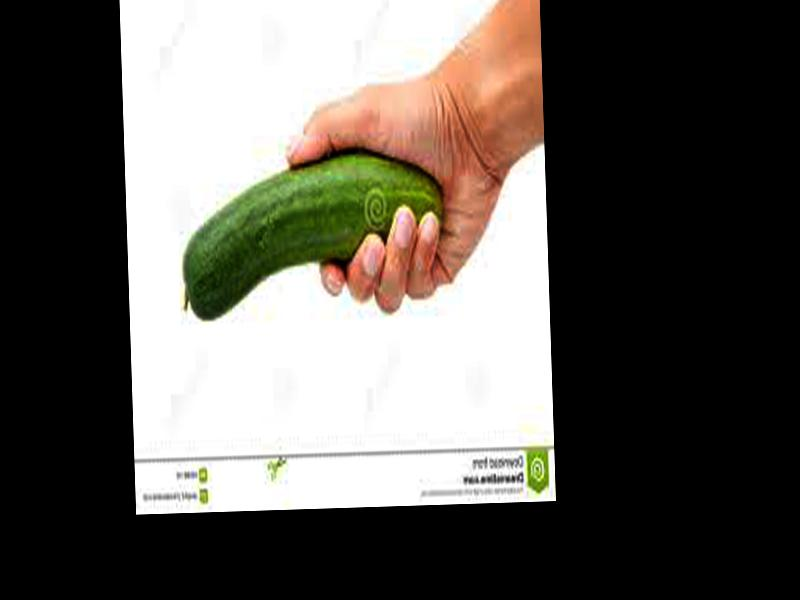Cucumber: (178, 153, 445, 321)
